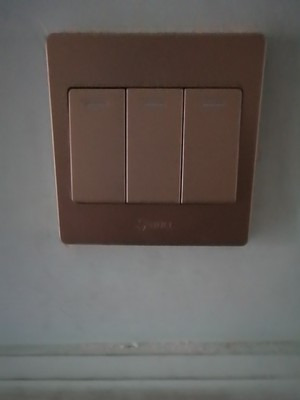switch: (66, 82, 131, 207), (123, 81, 186, 206), (179, 83, 242, 208)
